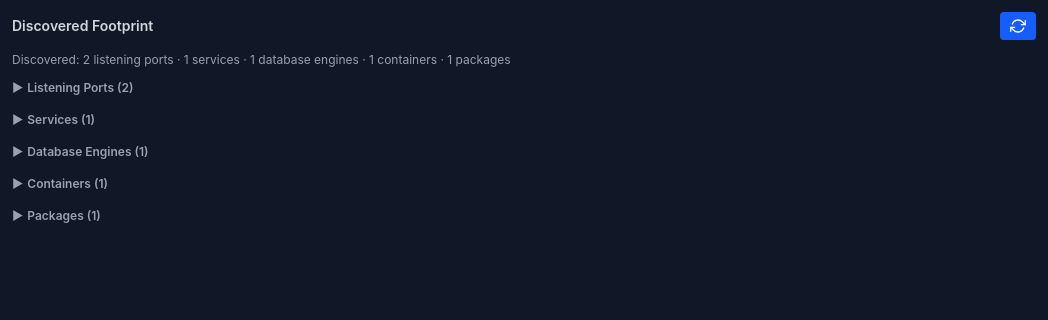
DeviceInventory › collapses tables by default and expands one when its header is clicked
Expected: the text "sshd" is not shown
Click the button "▶ Listening Ports (2)". click: {"x": 73, "y": 88}
box: top-left (12, 80), bottom-right (134, 96)
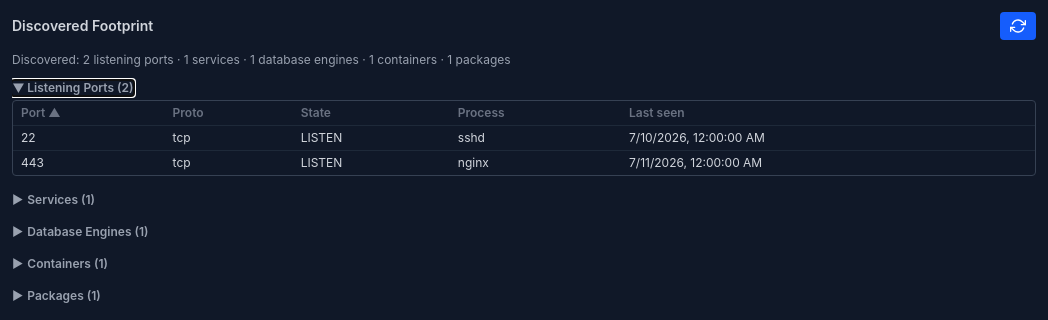
Now the text "sshd" is shown, box top-left (450, 126), bottom-right (621, 150)
# Collapsing again hides the rows.
Click the button "▶ Listening Ports (2)". click: {"x": 73, "y": 88}
box: top-left (12, 80), bottom-right (134, 96)
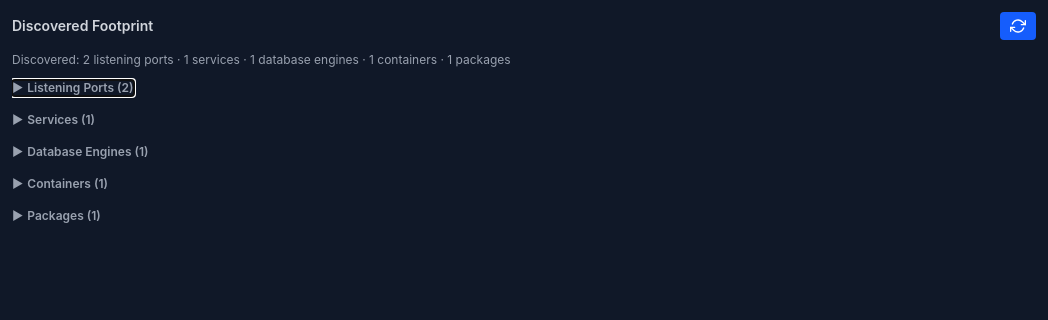
Now the text "sshd" is gone
